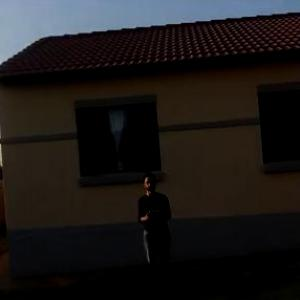follow: (134, 164, 180, 299)
